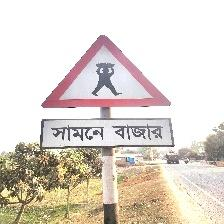Market-in-front: (40, 34, 174, 149)
